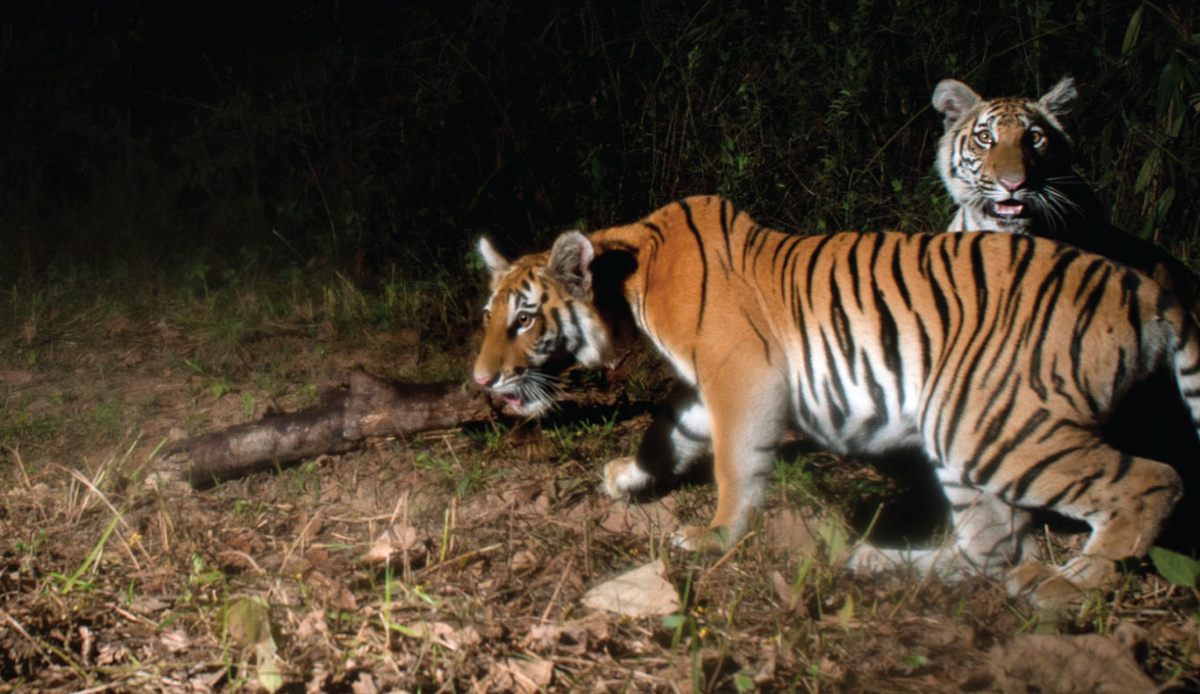Tiger: (405, 186, 1200, 628), (897, 68, 1120, 280)
